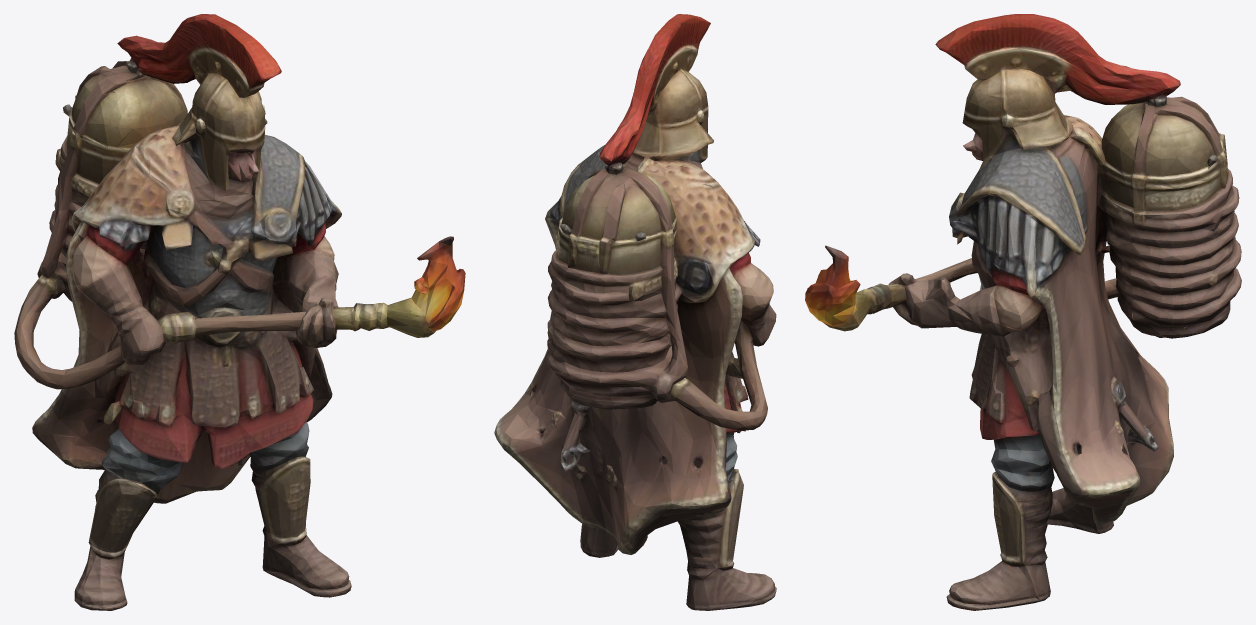
File: bellowsFlamer.glb
The picture shows the model from 3 angles, left to right: view 1: azimuth 30°, elevation 25°; view 2: azimuth 150°, elevation 25°; view 3: azimuth 270°, elevation 25°; orthographic projection. The views are drawn at different scales.
Parts seen in each view (by area): view 1: world; view 2: world; view 3: world.
Part boxes in pixels (x1=…): world: x1=14, y1=14, x2=465, y2=610; world: x1=494, y1=14, x2=776, y2=610; world: x1=805, y1=14, x2=1241, y2=610.
Bounding box in the file's own units: 0.5326 × 0.9988 × 0.7221.
1 material, 1 textured.
